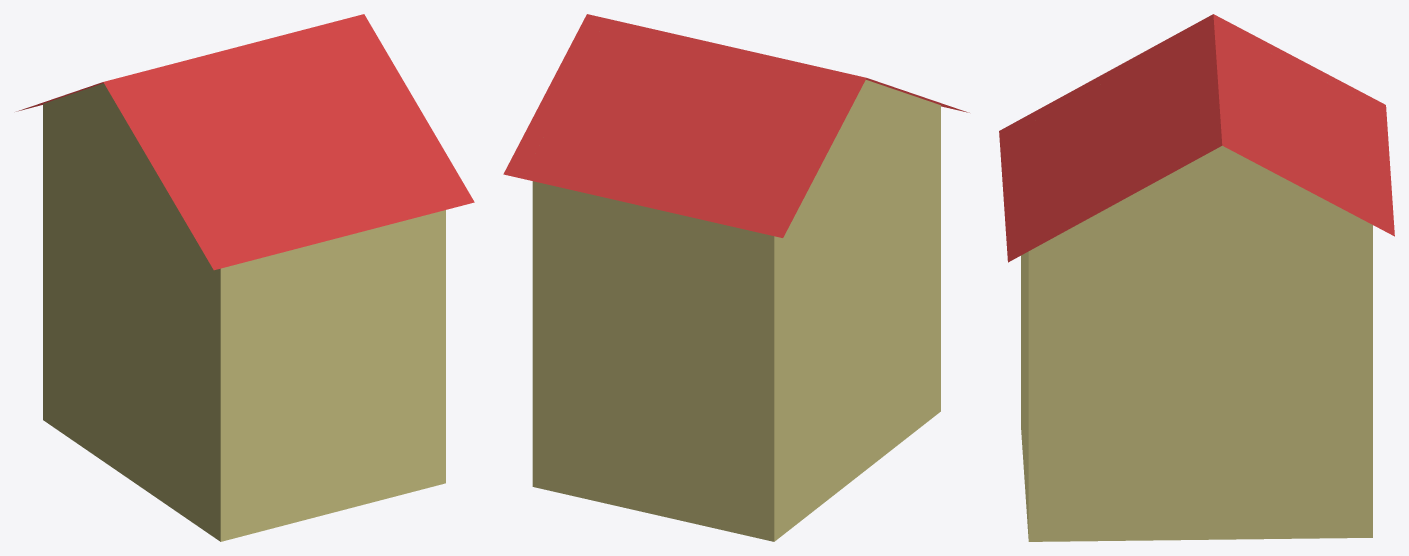
The picture shows the model from 3 angles, left to right: view 1: azimuth 30°, elevation 25°; view 2: azimuth 150°, elevation 25°; view 3: azimuth 270°, elevation 25°; orthographic projection. The views are drawn at different scales.
Size of the model in its own units: 11.32 by 13.89 by 15.6.
